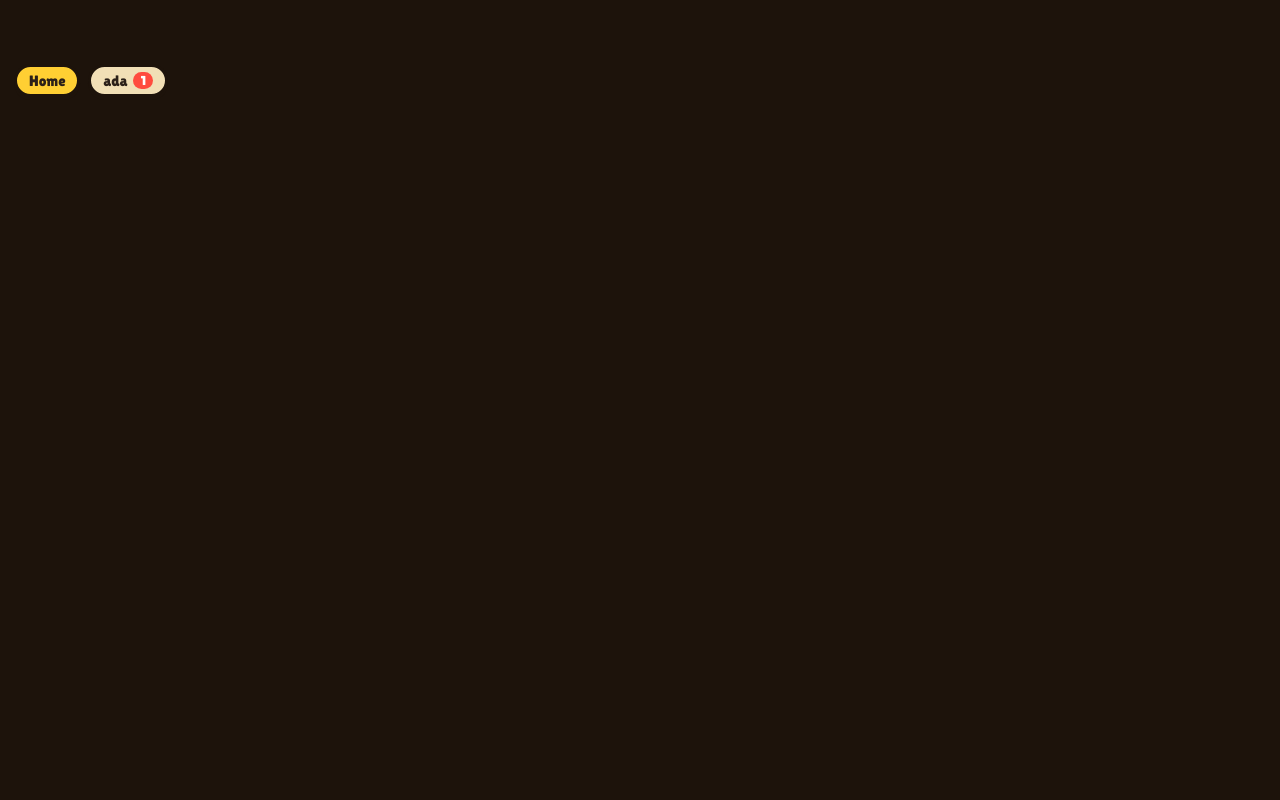
Test: visiting draws that village, says whose it is, and Home comes back
Click the button with aria-label "ada, 1 waiting" at (128, 80), box [88,64,168,97]
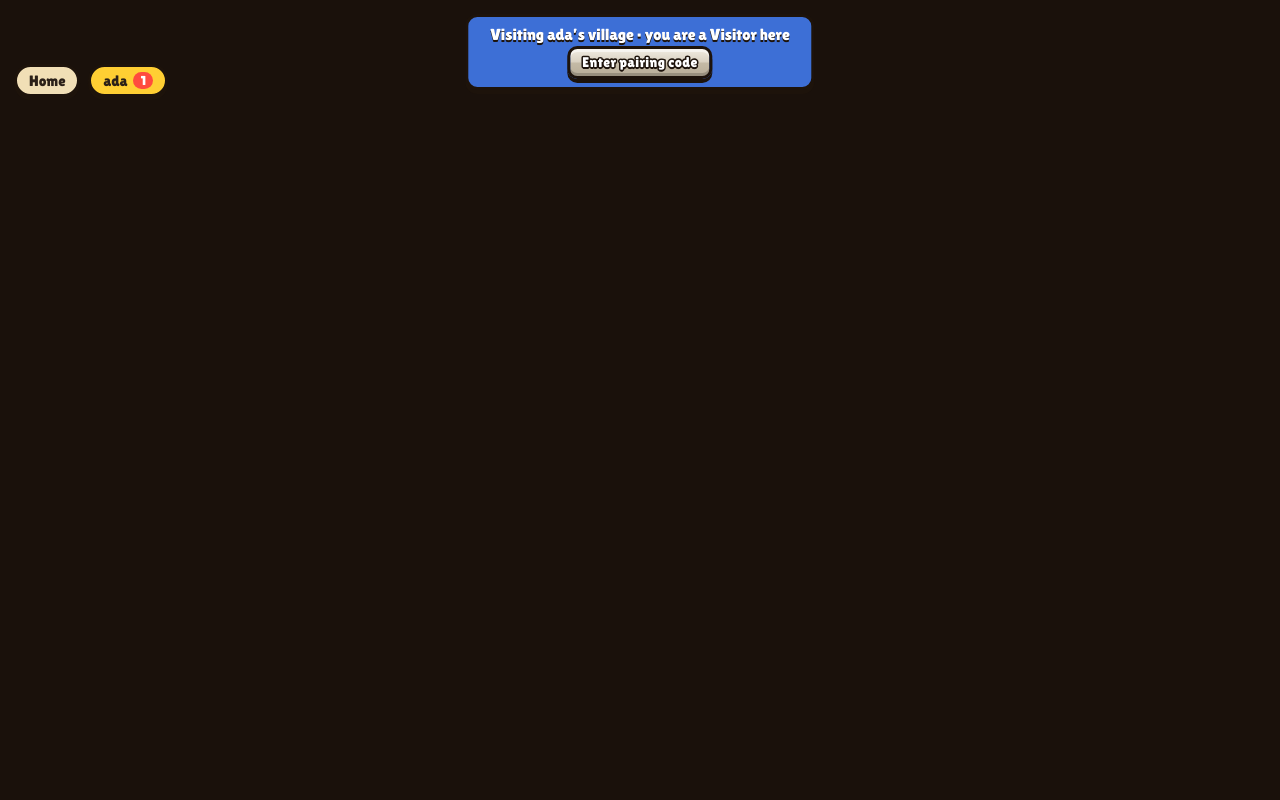
Now the text "Visiting ada’s village · you are a Visitor here" is shown, box [490,25,790,44]
Click the button "Home" at (47, 80), box [14,64,80,97]
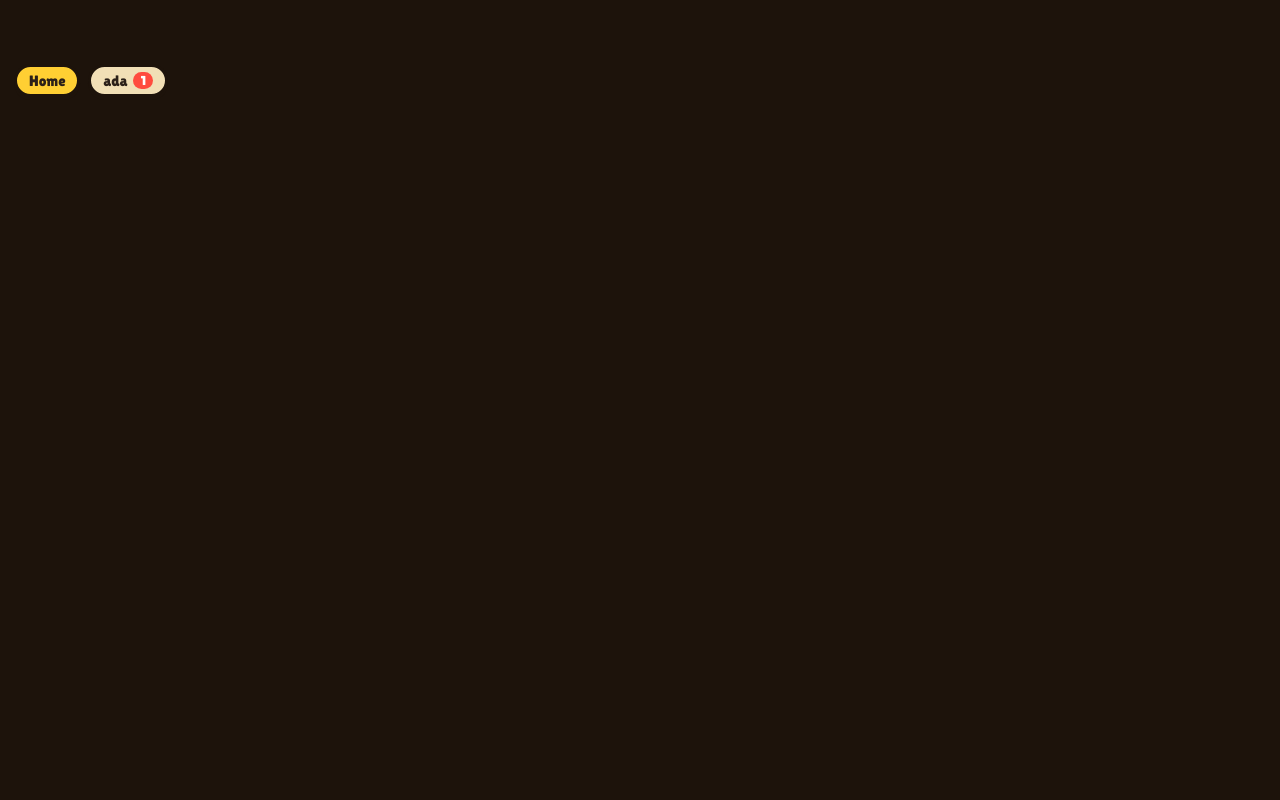
Now the text "Visiting" is gone
